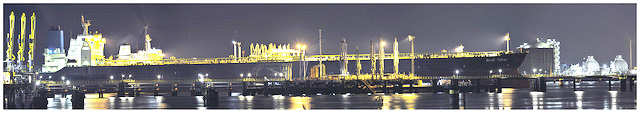tanker: (39, 17, 532, 86)
